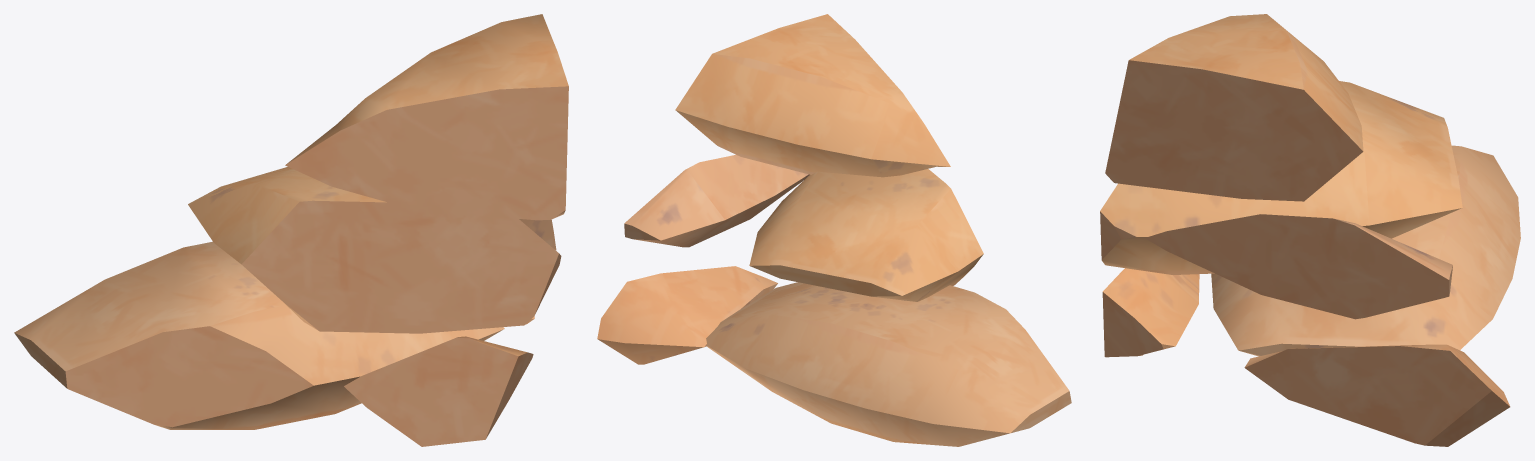
The model's file is sacks_s02.fbx.
The picture shows the model from 3 angles, left to right: view 1: azimuth 30°, elevation 25°; view 2: azimuth 150°, elevation 25°; view 3: azimuth 270°, elevation 25°; orthographic projection. The views are drawn at different scales.
Parts seen in each view (by area): view 1: sacks_s02; view 2: sacks_s02; view 3: sacks_s02.
Part boxes in pixels (left/top/right/bottom): sacks_s02: left=14, top=14, right=568, bottom=446; sacks_s02: left=597, top=14, right=1071, bottom=446; sacks_s02: left=1100, top=14, right=1520, bottom=446.
Bounding box in the file's own units: 3.81 × 2.5 × 2.62.
